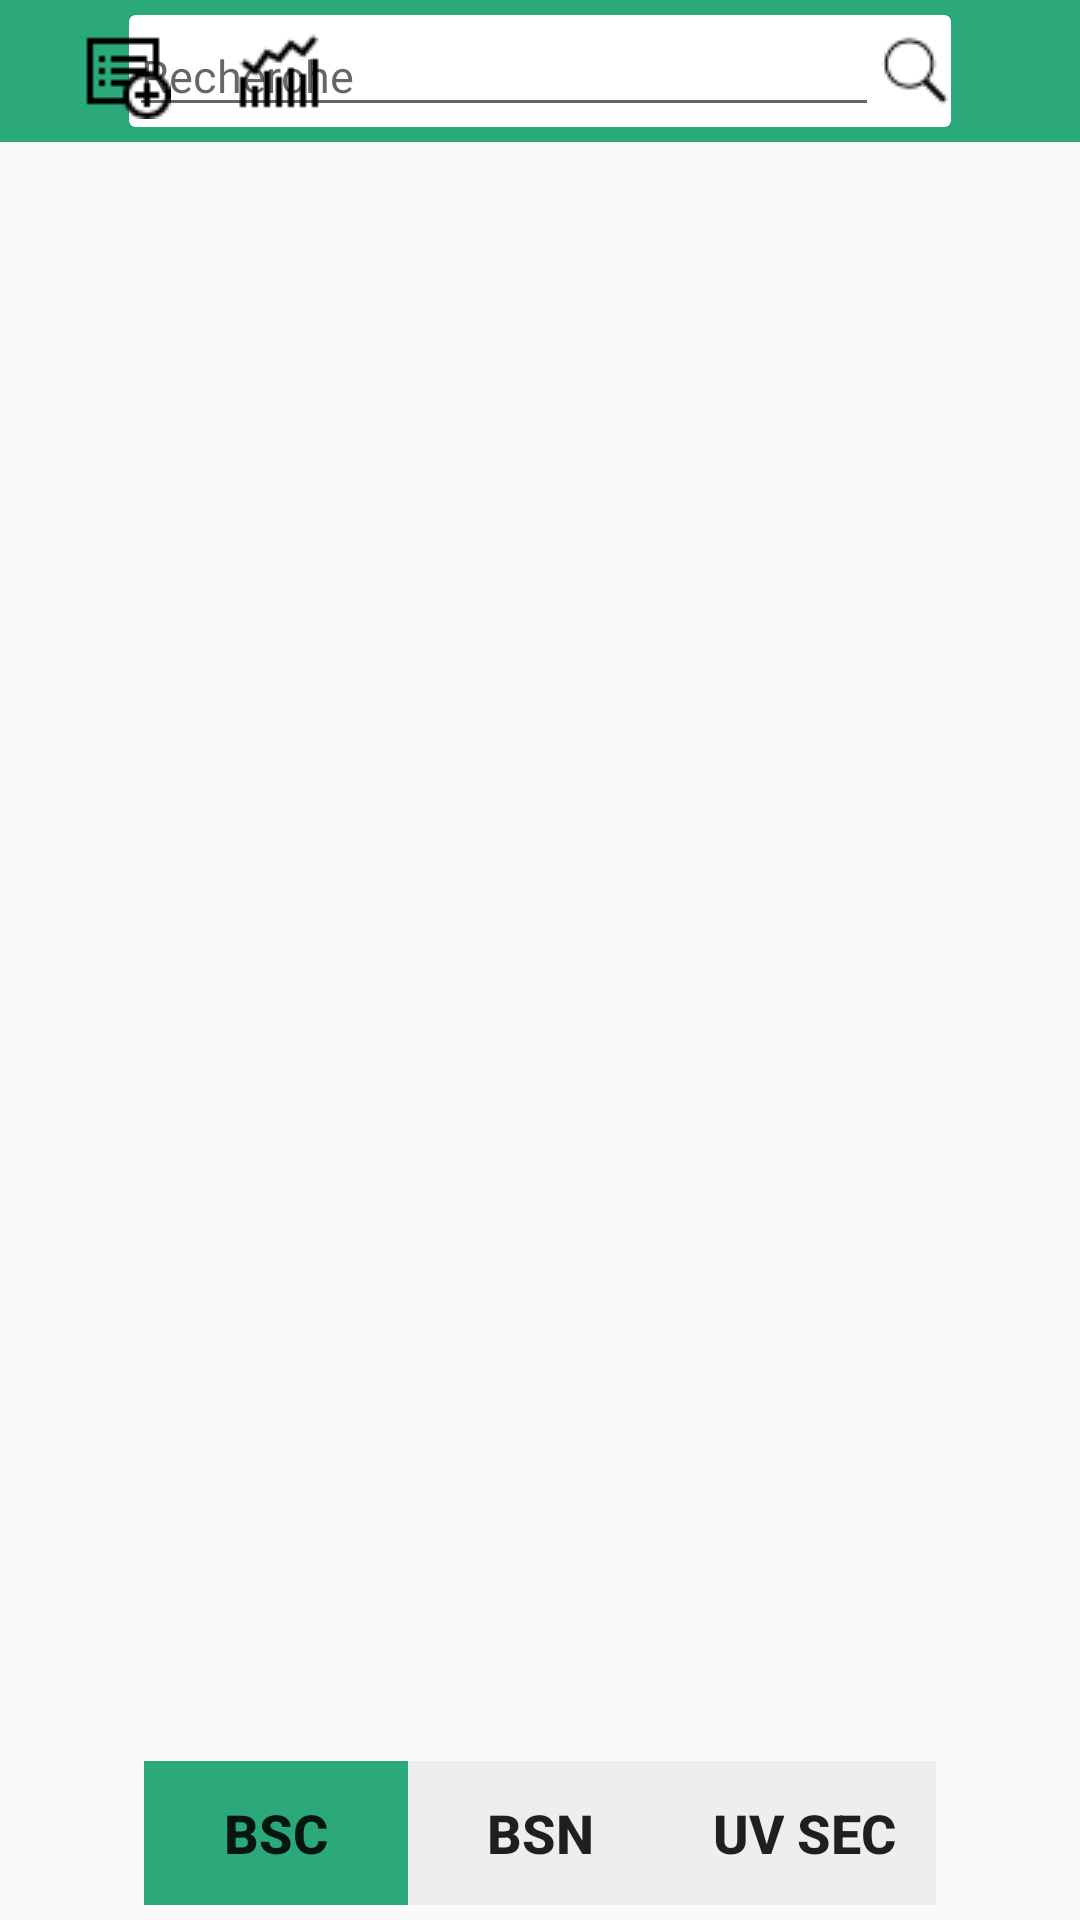

Icons on this 1080px×1920px Android screen, each with its box as (x1, y1, x2, y2):
search: (884, 37, 948, 104)
